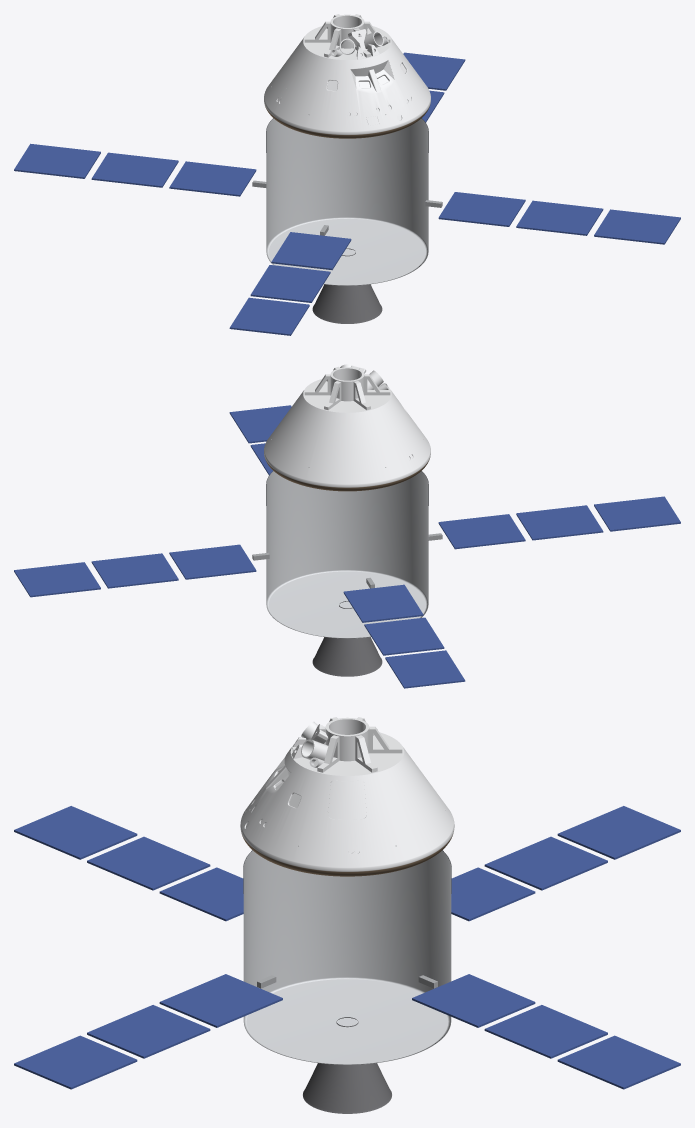
3 views of the same model, one above another, from view 1: azimuth 30°, elevation 25°; view 2: azimuth 150°, elevation 25°; view 3: azimuth 270°, elevation 25° (orthographic). The views are drawn at different scales.
Visible parts, largest first — view 1: Orion; view 2: Orion; view 3: Orion.
Boxes of the visible parts, <box> form: Orion: <box>14,14,680,335</box>; Orion: <box>14,364,680,688</box>; Orion: <box>14,717,680,1113</box>.
Bounding box in the file's own units: 15.67 × 9.54 × 15.67.
